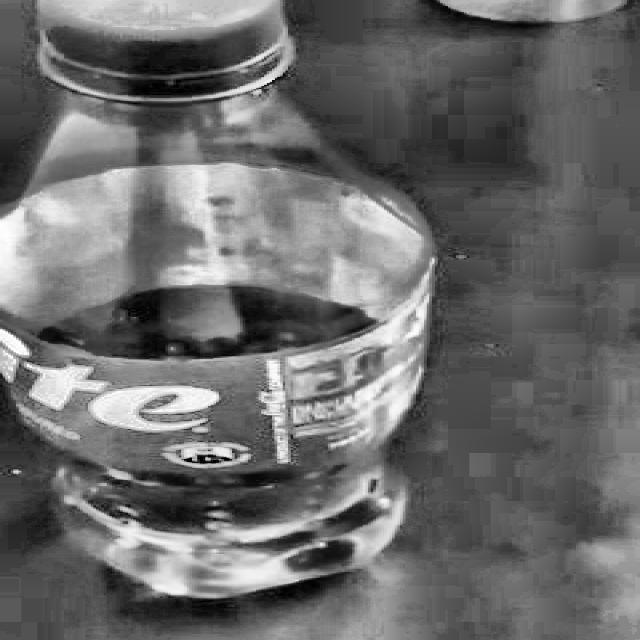bottle: (0, 0, 440, 607)
